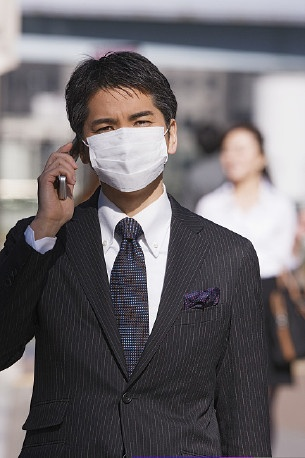Mask: (82, 103, 172, 194)
